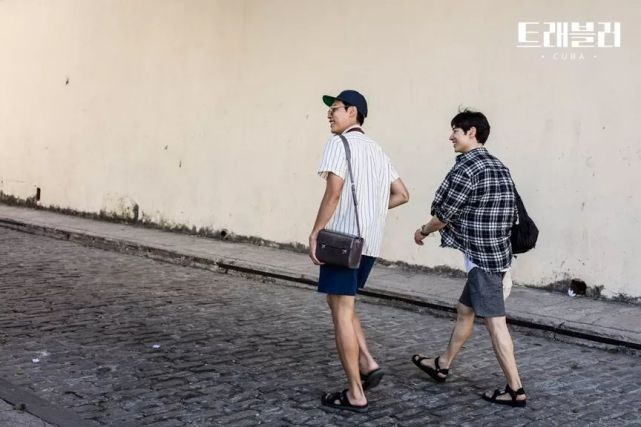people: (414, 111, 531, 406), (310, 89, 412, 412)
